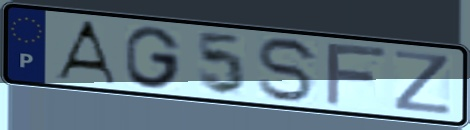5: (194, 29, 248, 96)
A: (51, 19, 120, 87)
F: (322, 42, 390, 108)
G: (122, 24, 184, 91)
S: (255, 36, 322, 105)
Z: (390, 48, 455, 117)
